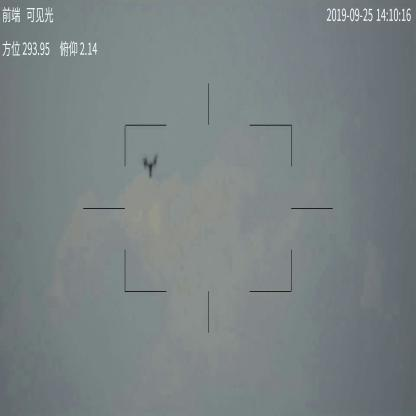uav: (141, 151, 161, 178)
